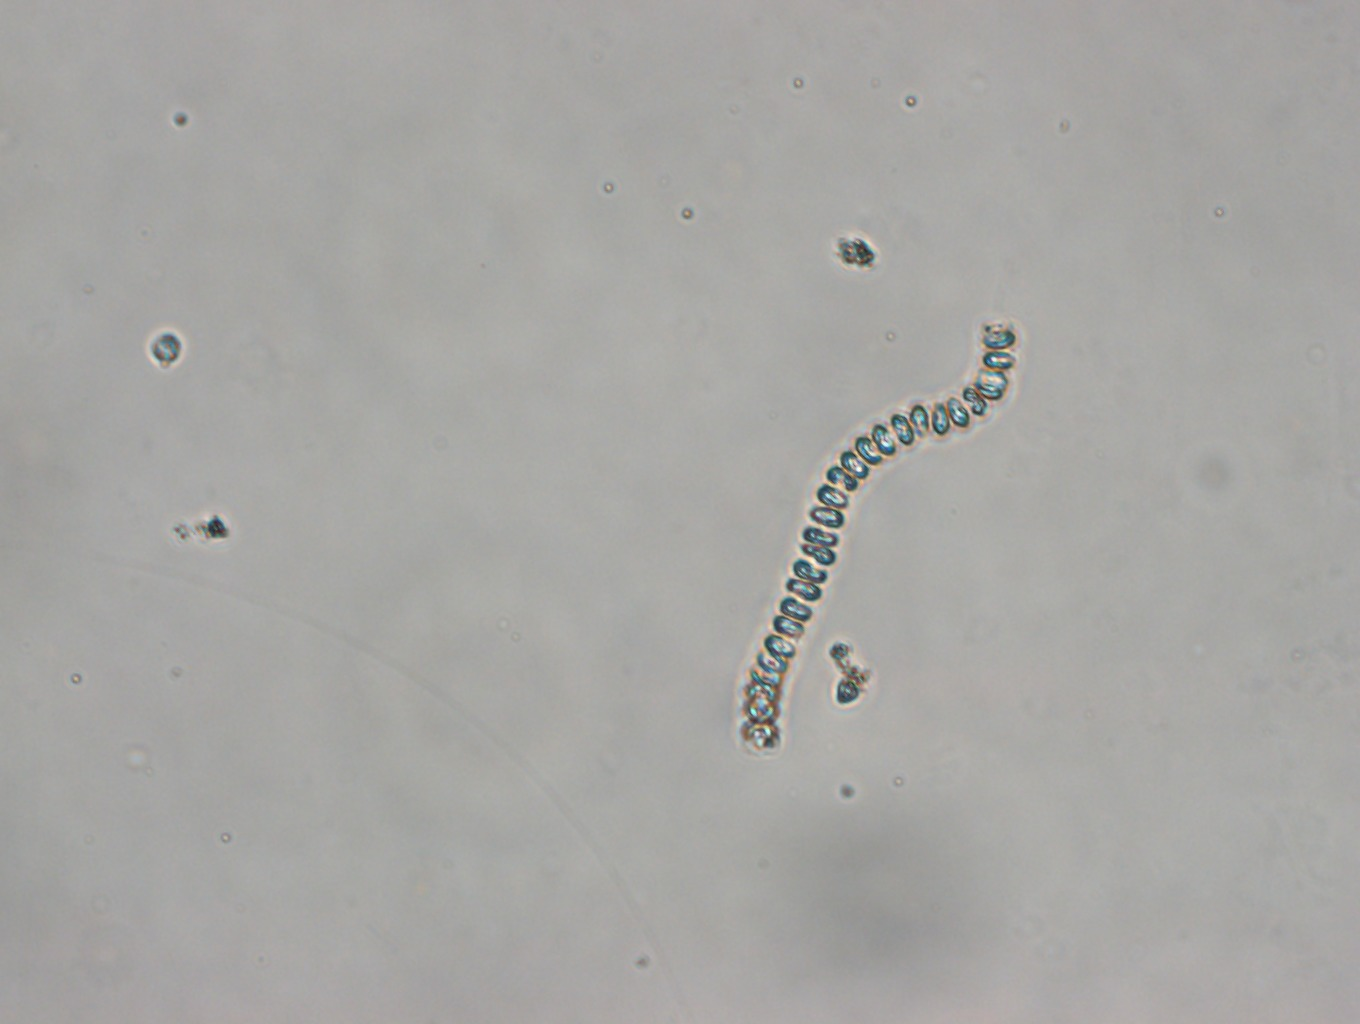skeletonema: (734, 314, 1017, 753)
